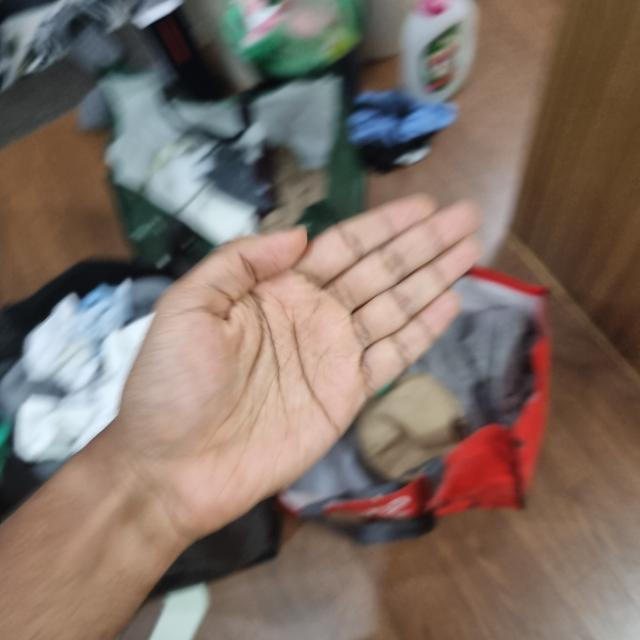Paper: (113, 228, 366, 526)
